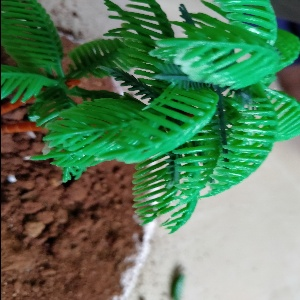plant: (20, 24, 290, 219)
